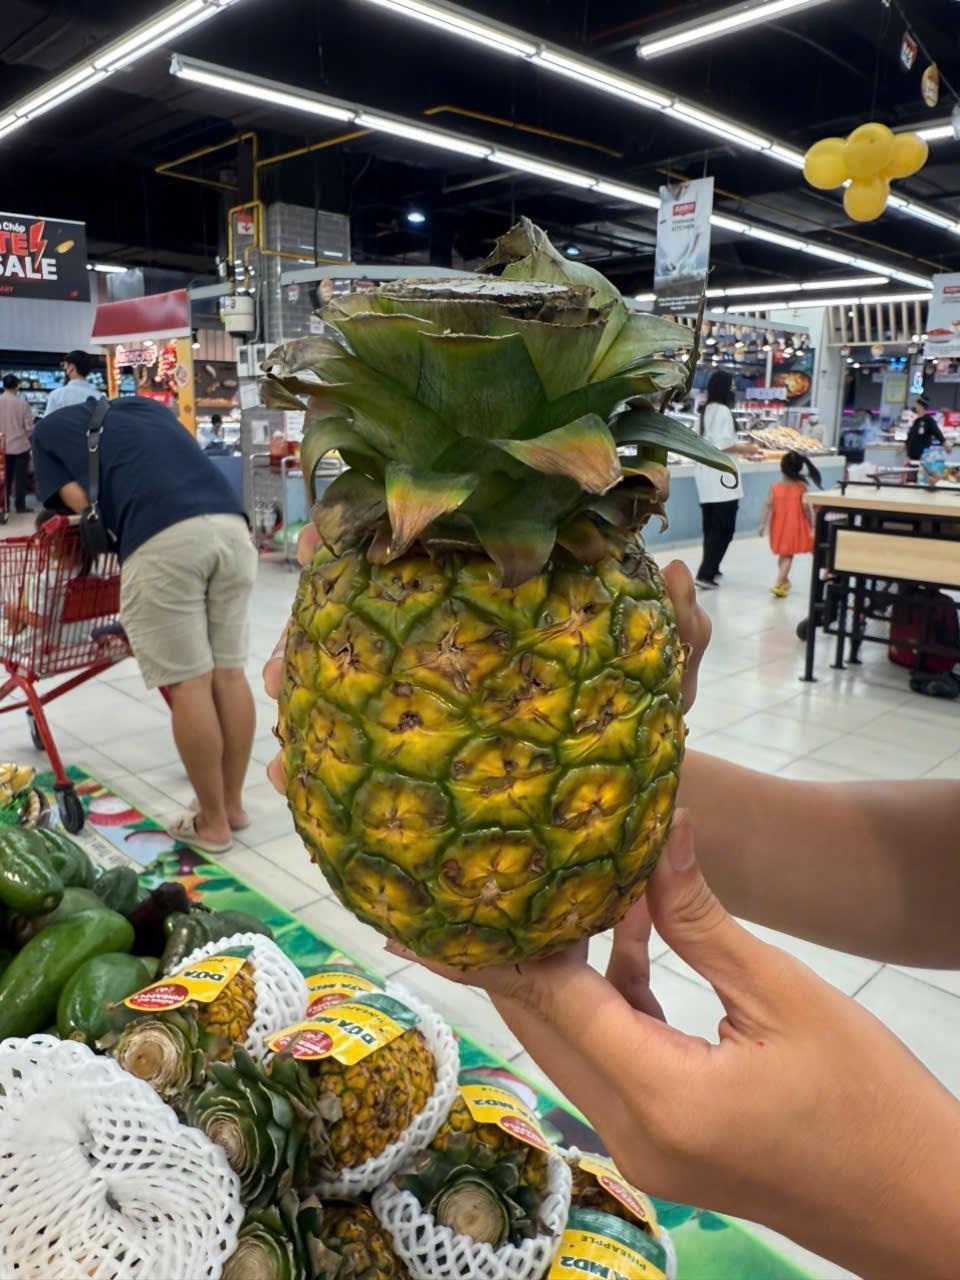pineapple: (250, 213, 698, 978)
